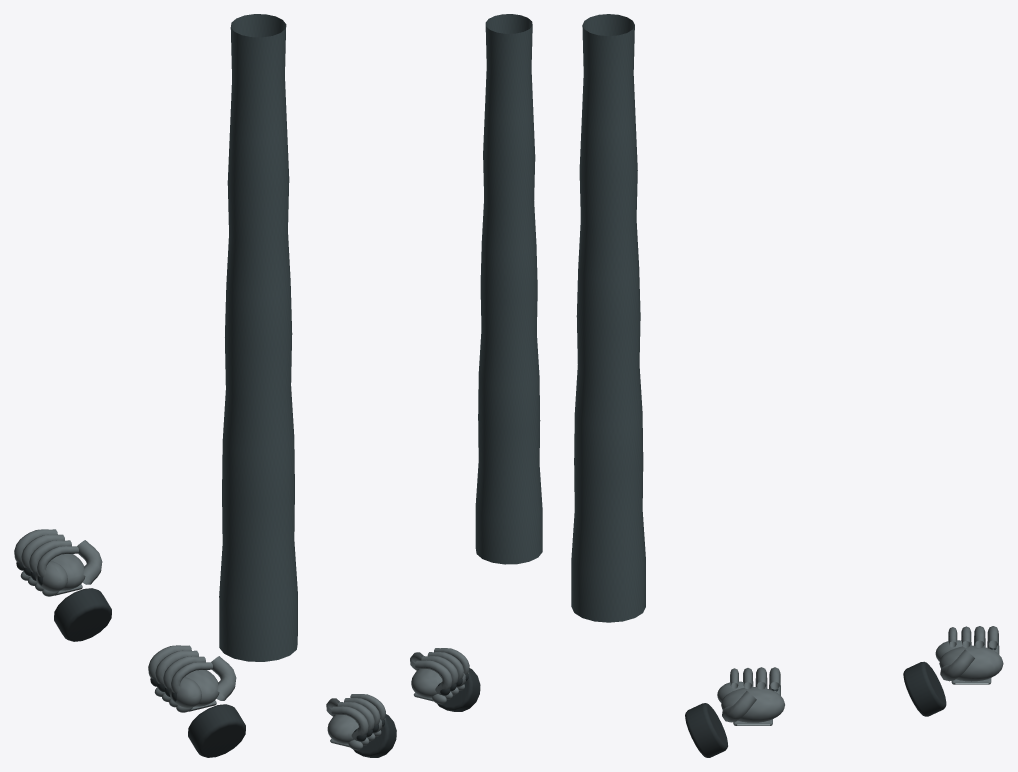
Rendered from operator-hands.glb.
3 renders of one model, left to right at view 1: azimuth 30°, elevation 25°; view 2: azimuth 150°, elevation 25°; view 3: azimuth 270°, elevation 25°, orthographic. The views are drawn at different scales.
Parts seen in each view (by area): view 1: Woven forearm.001, SupportGlove, GripGlove; view 2: Woven forearm.001, SupportGlove, GripGlove; view 3: Woven forearm.001, SupportGlove, GripGlove.
Part boxes in pixels (x1,y1,x2,y2): Woven forearm.001: [219, 14, 297, 661]; SupportGlove: [14, 529, 111, 641]; GripGlove: [148, 645, 245, 757]; Woven forearm.001: [475, 14, 542, 564]; SupportGlove: [326, 694, 396, 757]; GripGlove: [410, 648, 480, 711]; Woven forearm.001: [571, 14, 645, 622]; SupportGlove: [903, 626, 1003, 716]; GripGlove: [685, 667, 784, 757].
Bounding box in the file's own units: 0.1428 × 1.25 × 0.673.
Materials: 4 (4 with a texture image).
